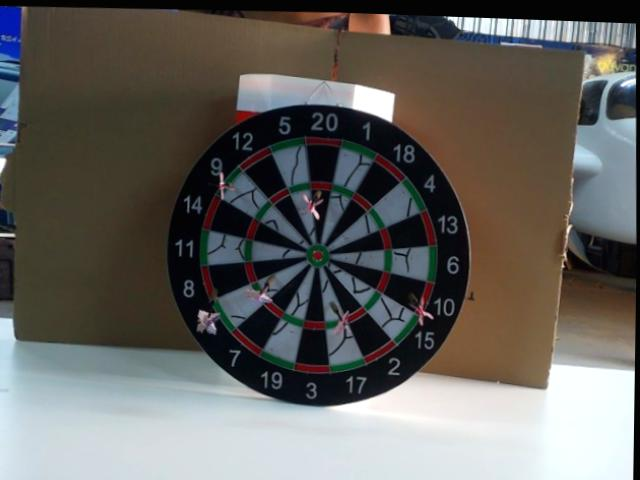single_10: (385, 276, 424, 311)
single_16: (253, 263, 308, 298)
single_17: (323, 271, 345, 322)
single_20: (309, 191, 331, 243)
single_8: (210, 263, 250, 297)
single_9: (224, 177, 264, 215)
